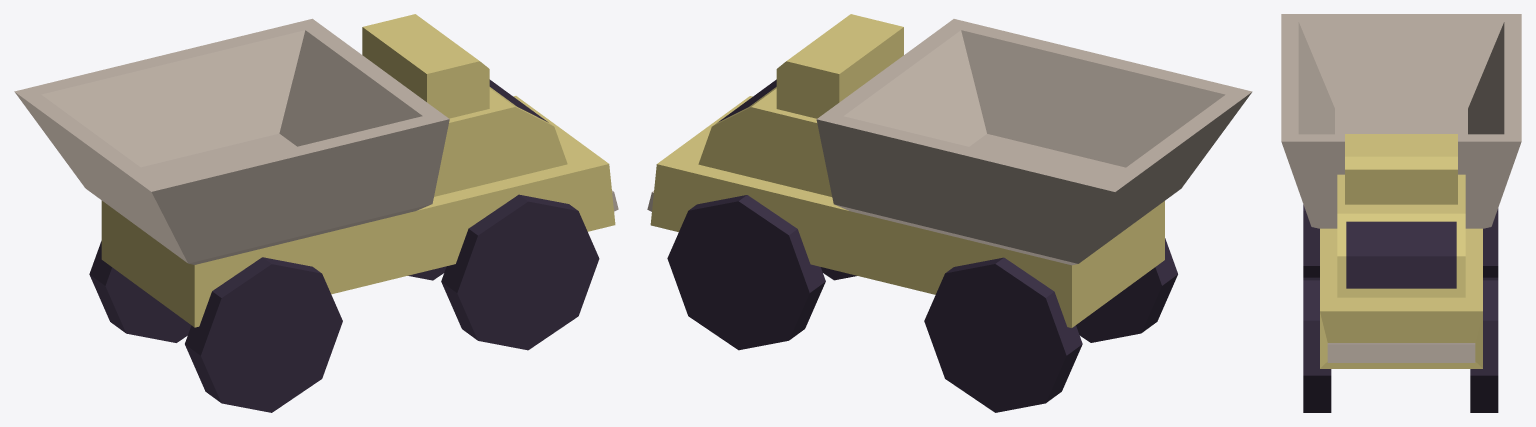
Rendered from DumpTruck.fbx.
The picture shows the model from 3 angles, left to right: view 1: azimuth 30°, elevation 25°; view 2: azimuth 150°, elevation 25°; view 3: azimuth 270°, elevation 25°; orthographic projection. The views are drawn at different scales.
Visible parts, largest first — view 1: DumpTruck; view 2: DumpTruck; view 3: DumpTruck.
Part boxes in pixels (x1,y1,x2,y2): DumpTruck: (14, 14, 618, 412); DumpTruck: (647, 14, 1252, 412); DumpTruck: (1281, 14, 1521, 412).
Bounding box in the file's own units: 105 × 56.35 × 50.45.
